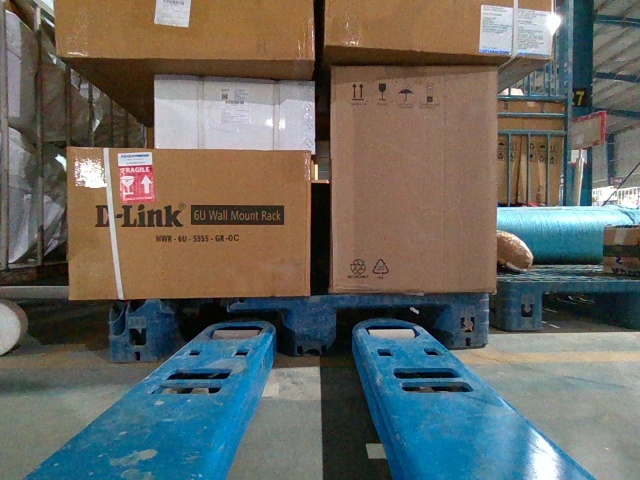pallet: (113, 295, 489, 357)
